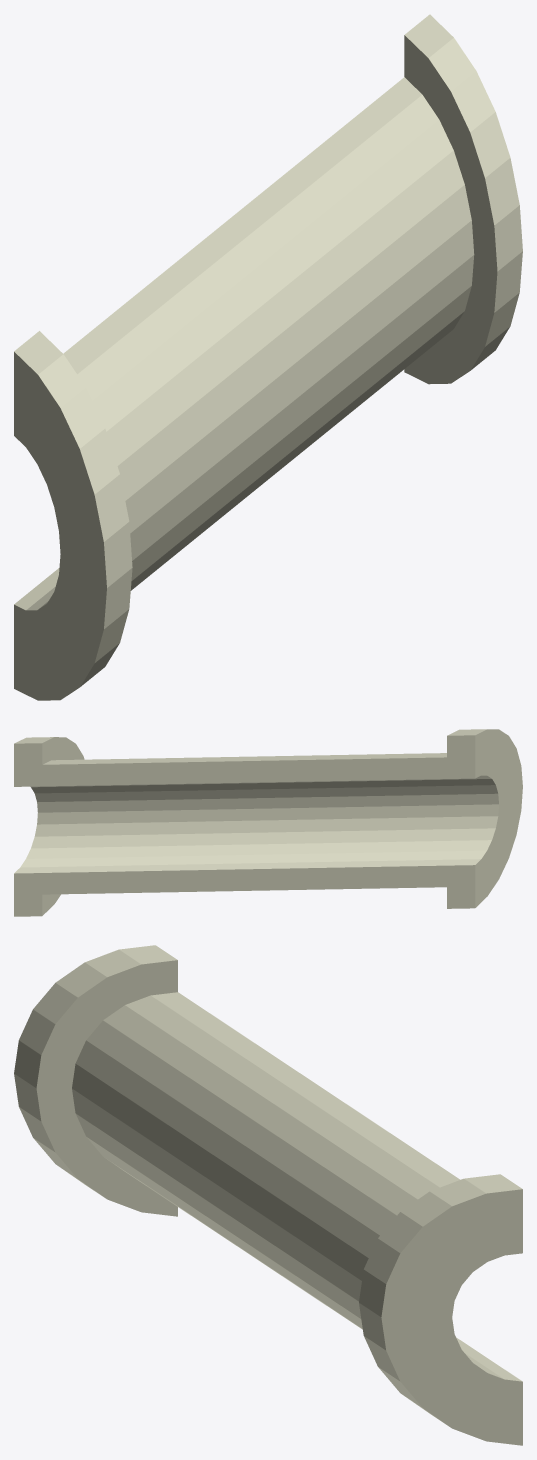
The model's file is section_010.obj.
3 views of the same model, one above another, from view 1: azimuth 30°, elevation 25°; view 2: azimuth 150°, elevation 25°; view 3: azimuth 270°, elevation 25° (orthographic). The views are drawn at different scales.
Bounding box in the file's own units: 16.31 × 8 × 14.38.
